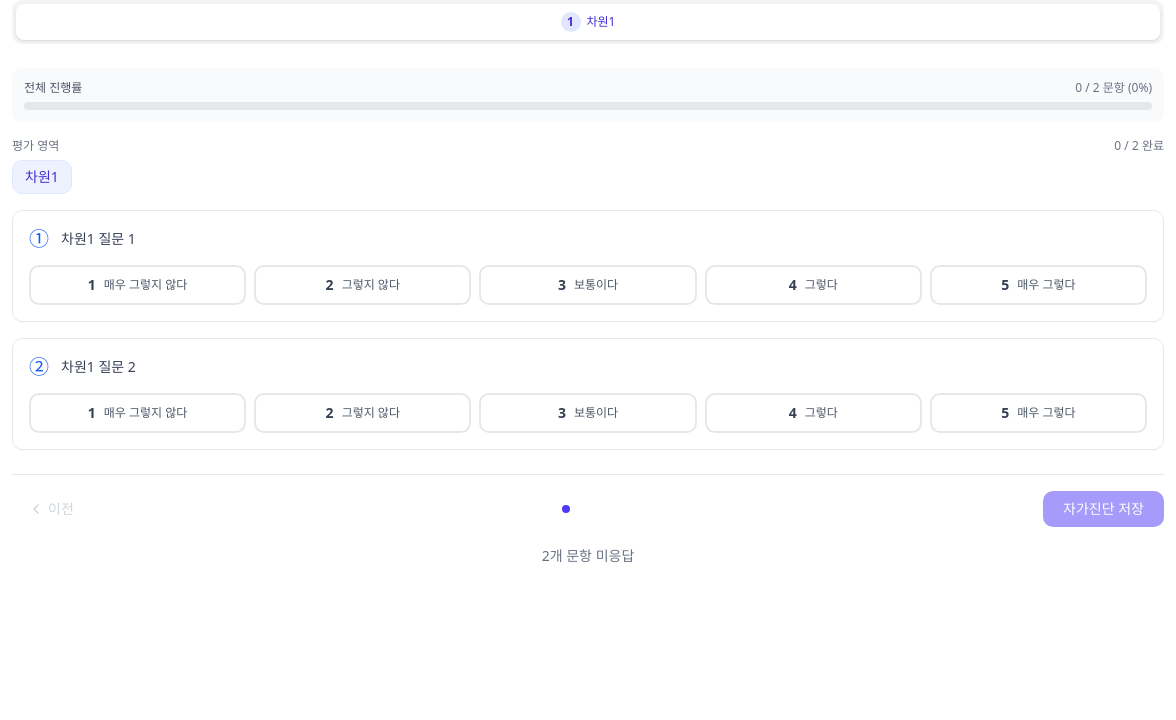
Test: SelfAssessmentForm › 질문 응답 › 모든 질문에 답하면 완료 메시지가 표시된다
What coordinates should you click on to do the following:
click the button "1 매우 그렇지 않다" below "차원1 질문 1"
I would click on:
 (138, 285)
Its box is [29,265,246,305].
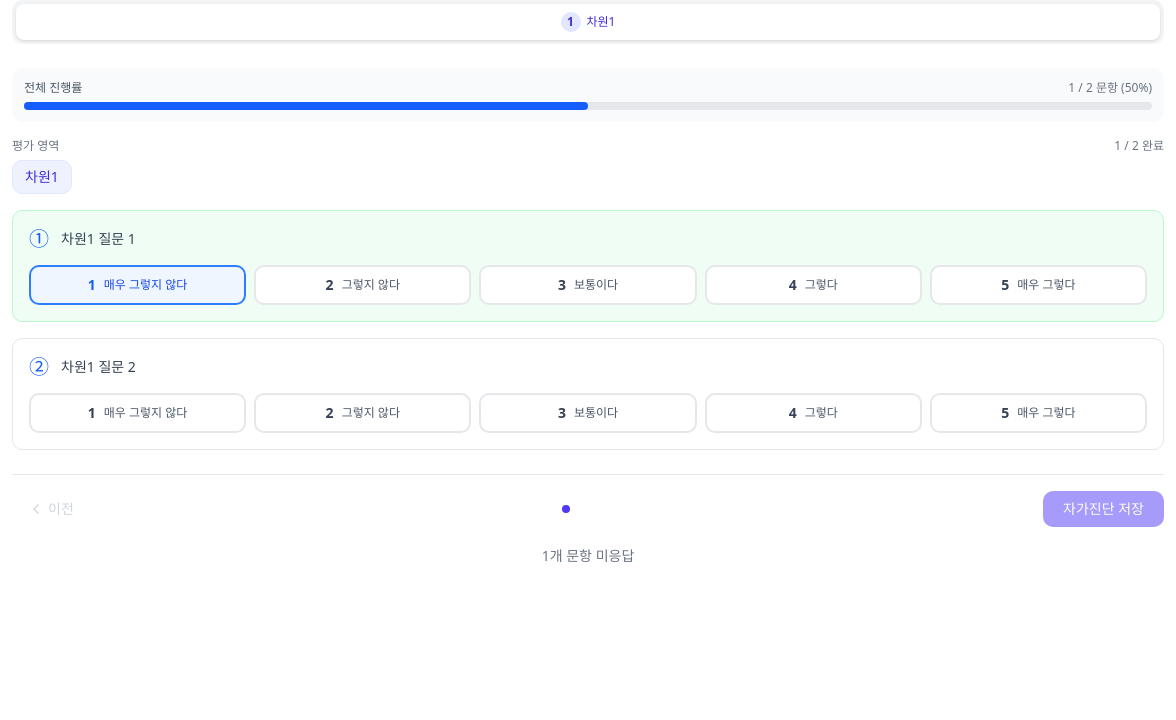
What coordinates should you click on to do the following:
click the button "1 매우 그렇지 않다" below "차원1 질문 2"
I would click on:
 (138, 413)
Its box is [29,393,246,433].
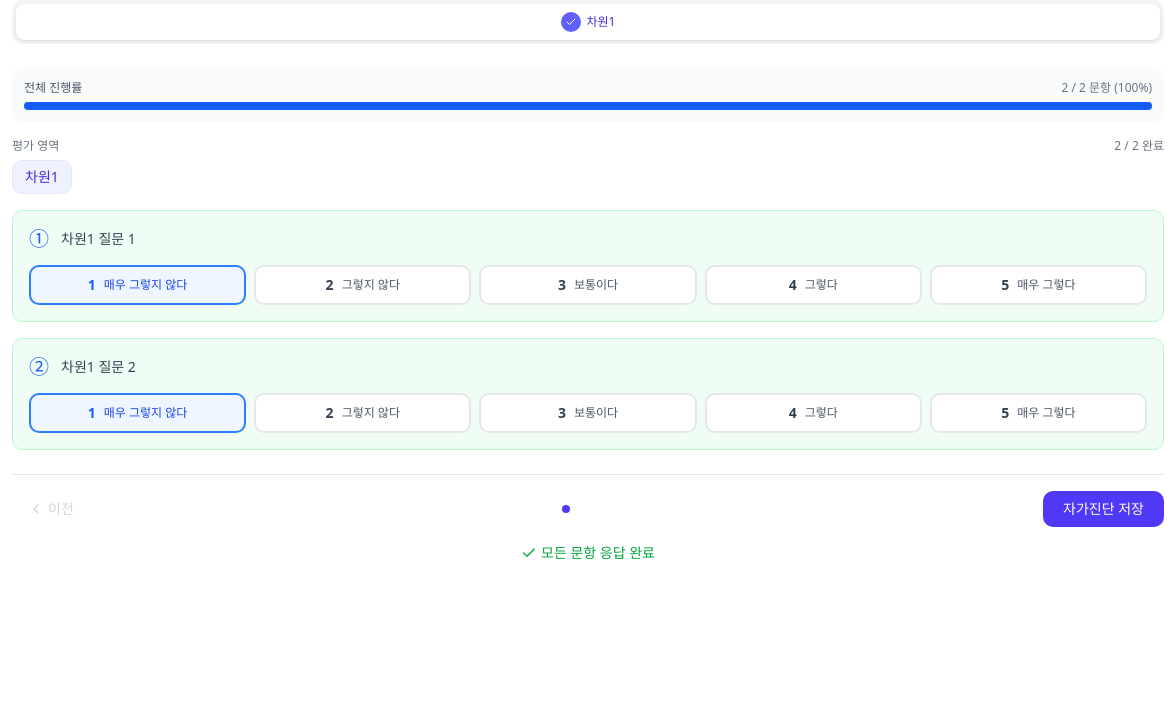
Now the text "모든 문항 응답 완료" is shown, box [521,543,655,562]
